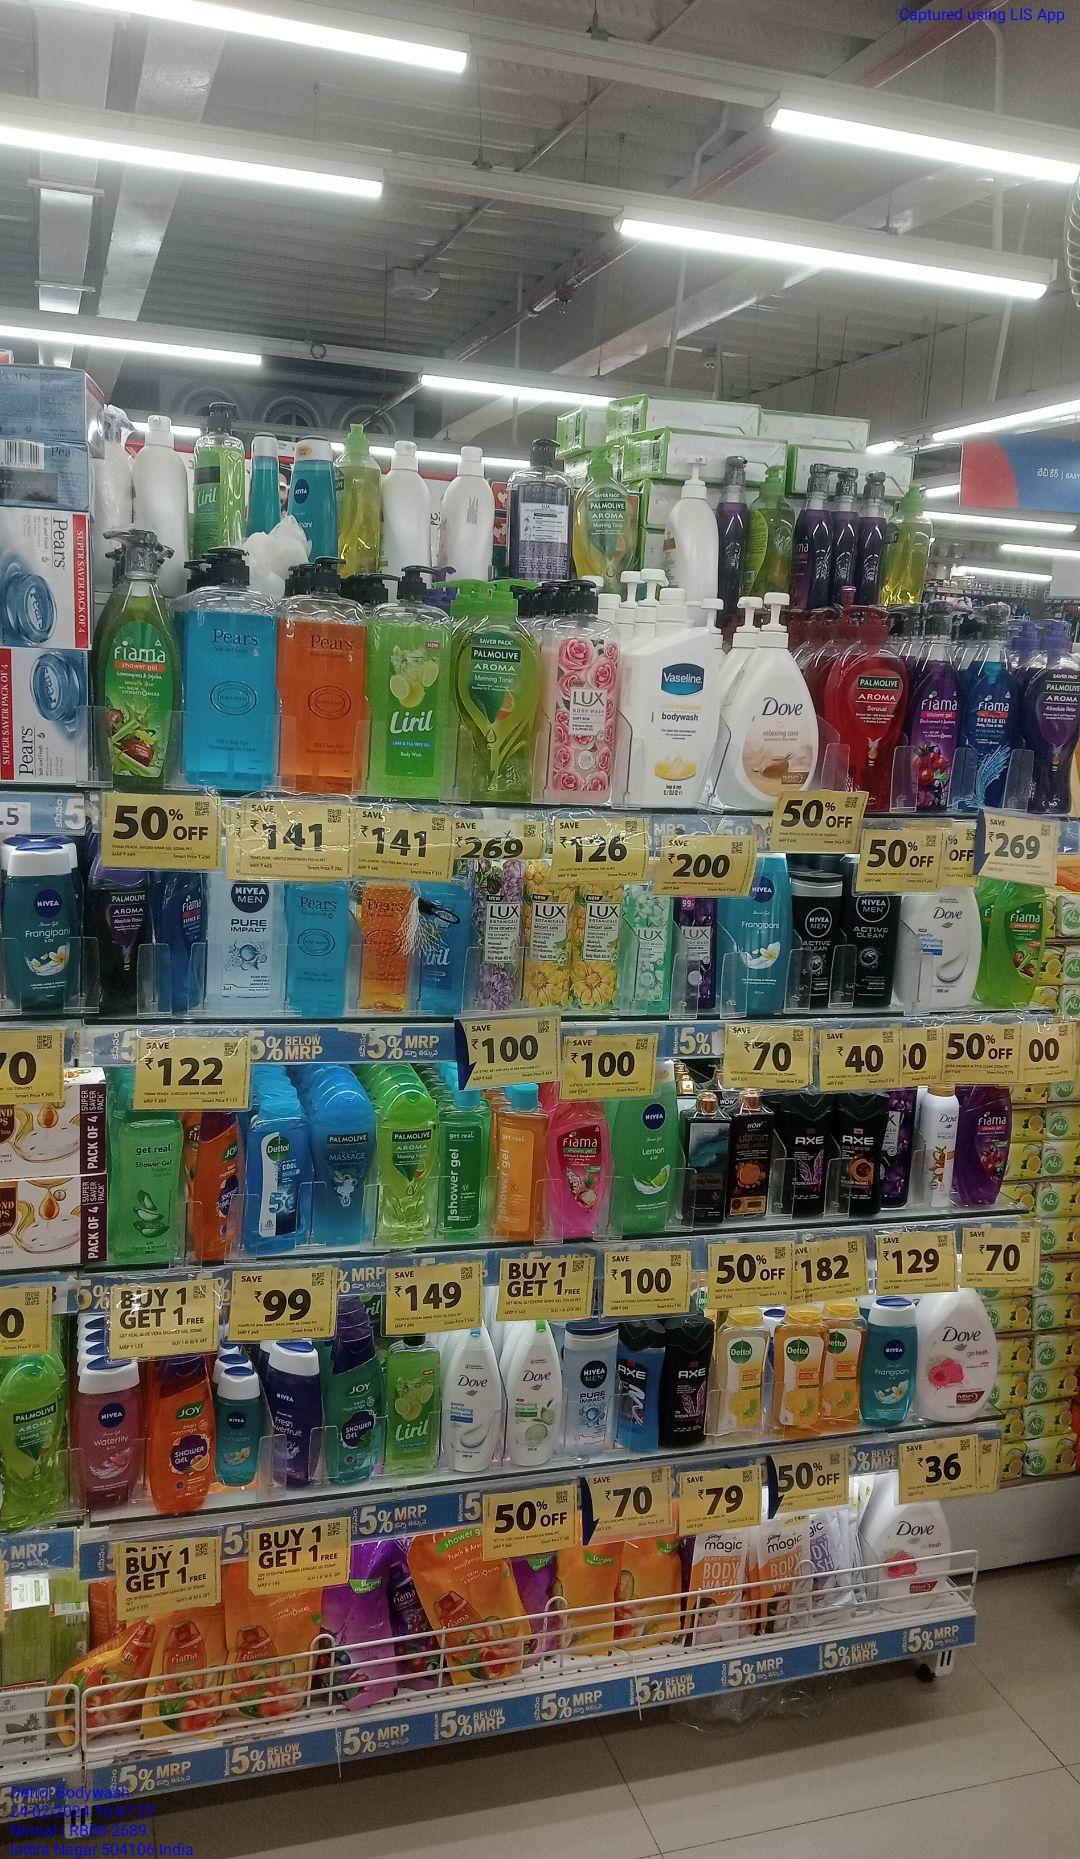Dettol_Bodywash_Cool: (251, 1108, 309, 1257)
Dettol_Bodywash_Refresh: (775, 1313, 822, 1436), (824, 1309, 863, 1432)
Dove_Gentle_Exfoliating_Body_Wash_250ML: (445, 1331, 503, 1471)
Dove_Refreshing_Body_Wash_250ML: (508, 1324, 563, 1466)
Fiama_Shower_Gel_Patchouli_and_Macadamia_250ML: (548, 1097, 612, 1238)
Joy_Shower_Gel_Mandarin_and_Lemongrass_250ML: (153, 1358, 215, 1513), (194, 1113, 246, 1259)
Joy_Shower_Gel_Mint_and_Eucalyptus_250ML: (328, 1341, 381, 1482)
Liril_Lime_and_Tea_Tree_Oil_Body_Wash_250ML: (384, 1333, 437, 1476)
Lux_Black_Orchid_Scent_and_Juniper_Oil_Body_Wash_245ML: (675, 897, 720, 1009)
Lux_Body_Wash_Skin_Detox_Freesia_Scent_and_Alove_Vera_245ML: (626, 881, 674, 1010)
Nivea_Shower_Gel_Frangipani_and_Oil_250ML: (725, 854, 793, 1016), (865, 1296, 918, 1423)
Nivea_Shower_Gel_Lemon_and_Oil_250ML: (618, 1064, 680, 1235)
Nivea_Shower_Gel_Waterlily_and_Oil_250ML: (82, 1365, 143, 1511)
Palmolive_Aroma_Moments_Feel_The_Massage_Shower_Gel_250ML: (315, 1094, 375, 1243)
Palmolive_Aroma_Morning_Tonic_Shower_Gel_250ML: (5, 1365, 67, 1521), (383, 1093, 441, 1246)
